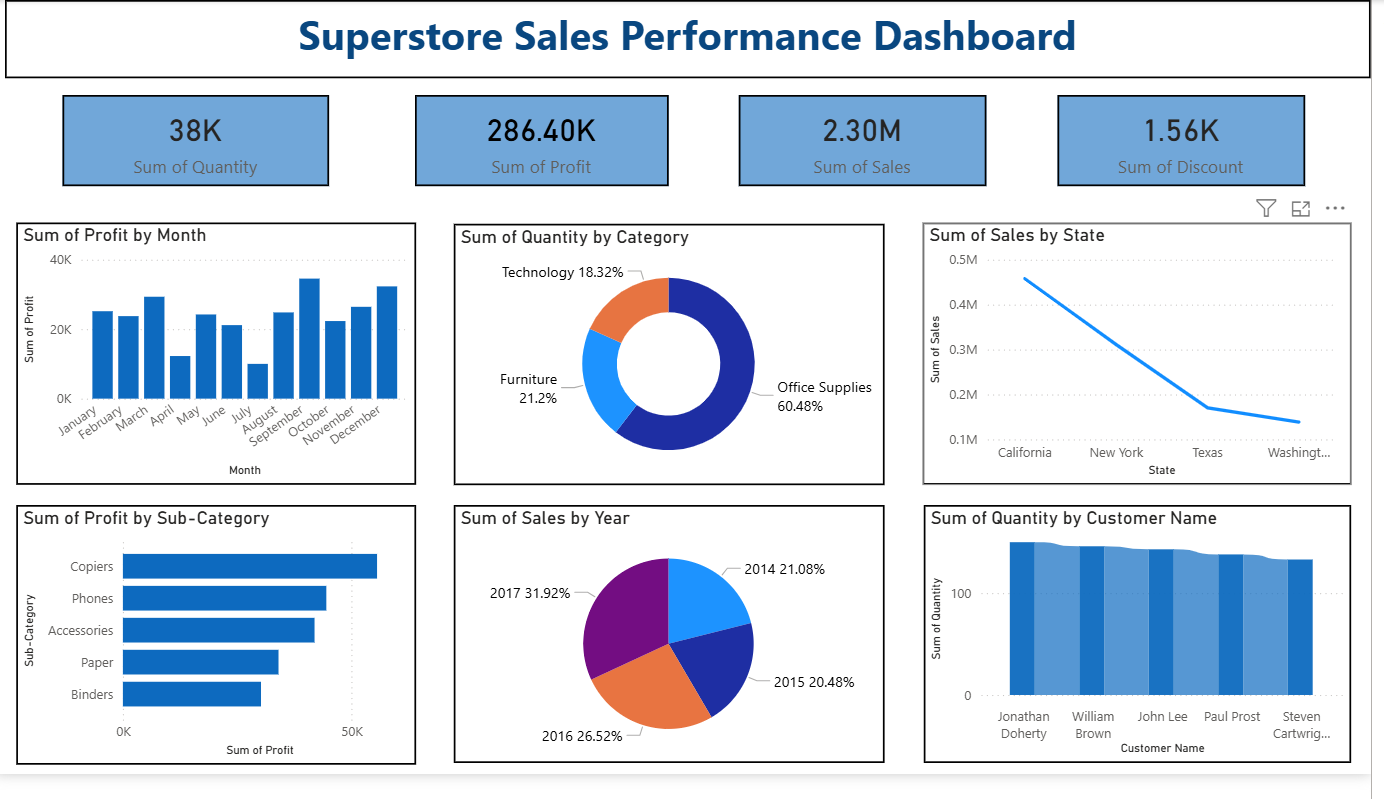

The page's visual inventory and layout, read from the dashboard file:
{"tool":"powerbi","page":{"name":"Page 1","canvas":[1280,720],"ordinal":0},"visuals":[{"type":"textbox","box":[9.6,0,1270.7,72.7],"z":0},{"type":"lineStackedColumnComboChart","fields":{"Y":["Sample - Superstore.Profit"],"Category":["Sample - Superstore.Order Date.Variation.Date Hierarchy.Month"]},"box":[19.2,207.2,371.9,244.3],"z":1000},{"type":"clusteredBarChart","fields":{"Category":["Sample - Superstore.Sub-Category"],"Y":["Sample - Superstore.Profit"]},"box":[19.2,469.3,371.9,241.5],"z":1001},{"type":"donutChart","fields":{"Category":["Sample - Superstore.Category"],"Y":["Sample - Superstore.Quantity"]},"box":[426.8,208.6,400.7,242.9],"z":1002},{"type":"pieChart","fields":{"Y":["Sample - Superstore.Sales"],"Category":["Sample - Superstore.Order Date.Variation.Date Hierarchy.Year","Sample - Superstore.Order Date.Variation.Date Hierarchy.Quarter","Sample - Superstore.Order Date.Variation.Date Hierarchy.Month","Sample - Superstore.Order Date.Variation.Date Hierarchy.Day"]},"box":[426.8,469.3,400.7,240.1],"z":1003},{"type":"card","fields":{"Values":["Sample - Superstore.Profit"]},"box":[391.1,87.8,236,85.1],"z":1004},{"type":"card","fields":{"Values":["Sample - Superstore.Sales"]},"box":[691.6,87.8,230.5,85.1],"z":1005},{"type":"card","fields":{"Values":["Sample - Superstore.Quantity"]},"box":[63.1,87.8,248.4,85.1],"z":1006},{"type":"card","fields":{"Values":["Sample - Superstore.Discount"]},"box":[988,87.8,230.5,85.1],"z":1007},{"type":"lineChart","fields":{"Category":["Sample - Superstore.State"],"Y":["Sample - Superstore.Sales"]},"box":[862.8,207,398.8,244.2],"z":1008},{"type":"ribbonChart","fields":{"Category":["Sample - Superstore.Customer Name"],"Y":["Sample - Superstore.Quantity"]},"box":[864.5,469.3,397.9,240.1],"z":1009}]}

Visuals, with their boxes in screenshot pixels (x1, y1, x2, y2), scaled from the page's 1280x720 canvas onto the 1384x799 screenshot:
textbox: <bbox>10, 0, 1383, 81</bbox>
lineStackedColumnComboChart - Sample - Superstore.Profit x Sample - Superstore.Order Date.Variation.Date Hierarchy.Month: <bbox>21, 230, 423, 501</bbox>
clusteredBarChart - Sample - Superstore.Sub-Category x Sample - Superstore.Profit: <bbox>21, 521, 423, 789</bbox>
donutChart - Sample - Superstore.Category x Sample - Superstore.Quantity: <bbox>461, 231, 895, 501</bbox>
pieChart - Sample - Superstore.Sales x Sample - Superstore.Order Date.Variation.Date Hierarchy.Year: <bbox>461, 521, 895, 787</bbox>
card - Sample - Superstore.Profit: <bbox>423, 97, 678, 192</bbox>
card - Sample - Superstore.Sales: <bbox>748, 97, 997, 192</bbox>
card - Sample - Superstore.Quantity: <bbox>68, 97, 337, 192</bbox>
card - Sample - Superstore.Discount: <bbox>1068, 97, 1318, 192</bbox>
lineChart - Sample - Superstore.State x Sample - Superstore.Sales: <bbox>933, 230, 1364, 501</bbox>
ribbonChart - Sample - Superstore.Customer Name x Sample - Superstore.Quantity: <bbox>935, 521, 1365, 787</bbox>
